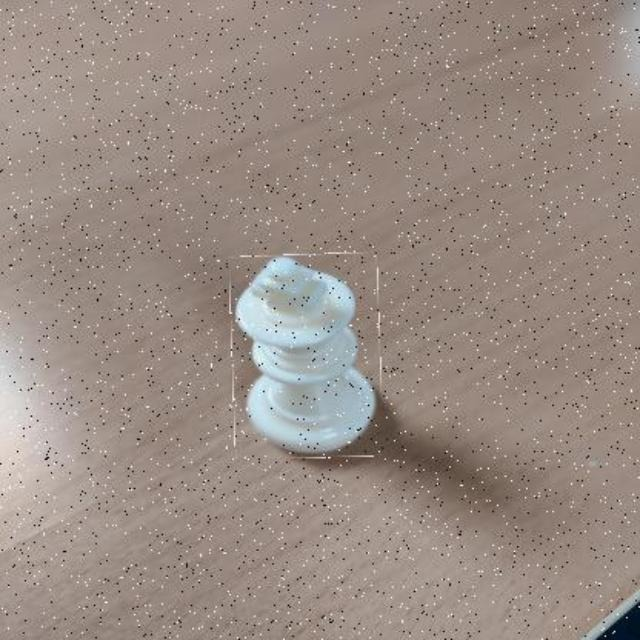white-king: (231, 255, 381, 459)
